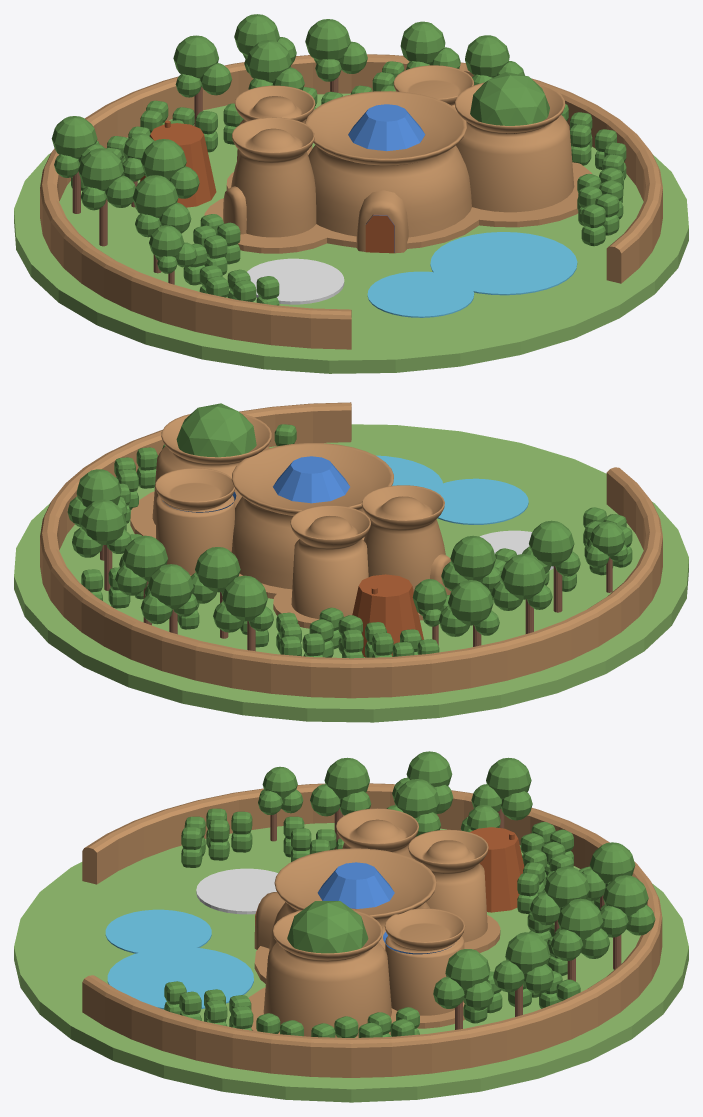
Rendered from solarpunk_island_whole_compressed.glb.
3 renders of one model, top to bottom at view 1: azimuth 30°, elevation 25°; view 2: azimuth 150°, elevation 25°; view 3: azimuth 270°, elevation 25°, orthographic.
Parts seen in each view (by area): view 1: GreenHouse.001; view 2: GreenHouse.001; view 3: GreenHouse.001.
Part boxes in pixels (x1=…): GreenHouse.001: x1=14, y1=14, x2=688, y2=373; GreenHouse.001: x1=14, y1=402, x2=688, y2=722; GreenHouse.001: x1=14, y1=751, x2=688, y2=1102.
Bounding box in the file's own units: 13.32 × 3.19 × 13.32.
